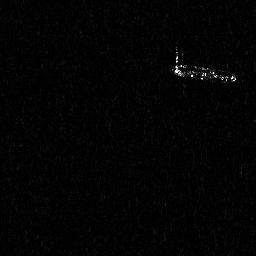ship: (170, 45, 238, 85)
